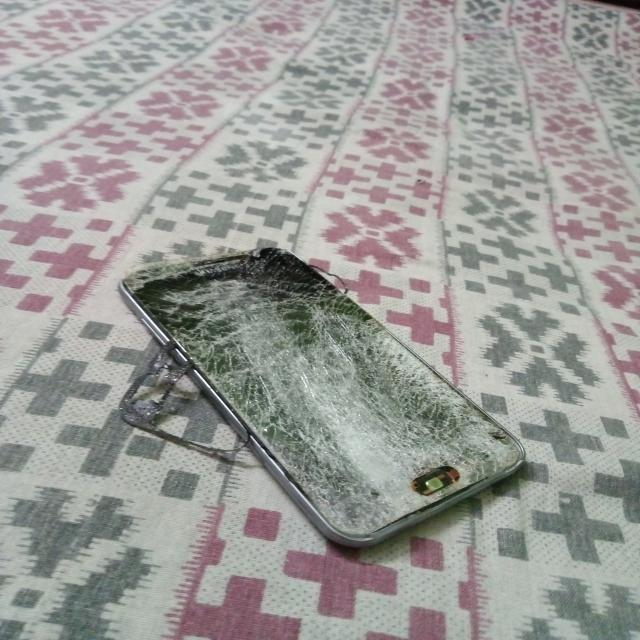screen crack: (107, 242, 545, 546)
